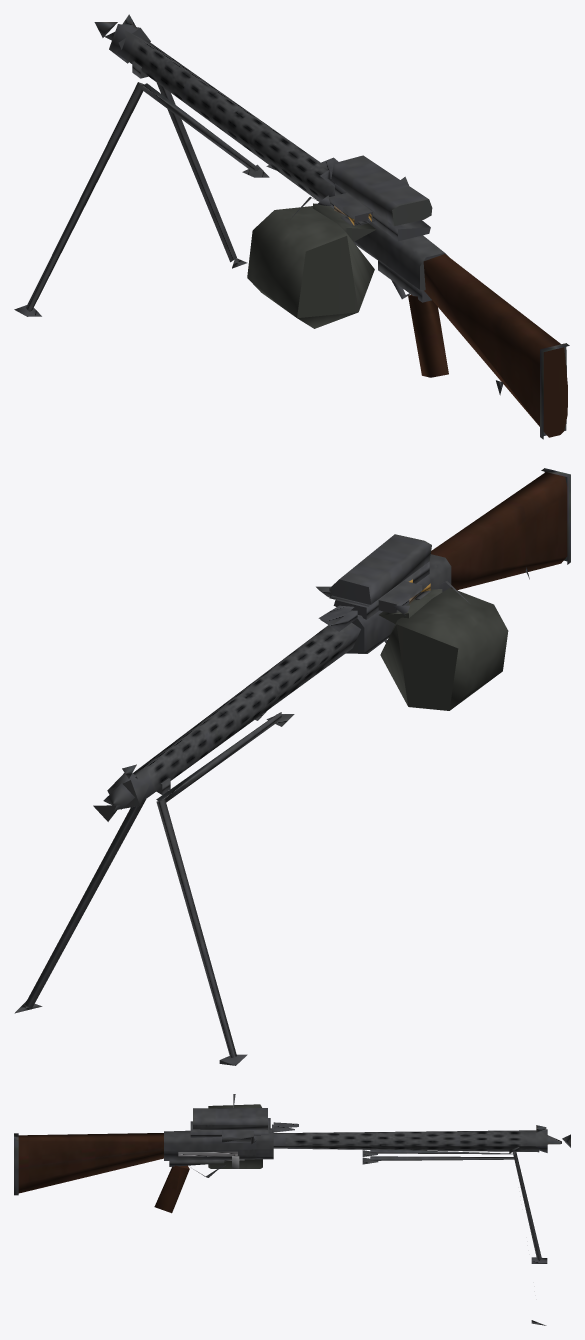
3 views of the same model, one above another, from view 1: azimuth 30°, elevation 25°; view 2: azimuth 150°, elevation 25°; view 3: azimuth 270°, elevation 25° (orthographic). The views are drawn at different scales.
Parts seen in each view (by area): view 1: mg34_body, mg34_drum, mg34_bipod_open, mg34_feed_cover, mg34_bipod_folded; view 2: mg34_body, mg34_drum, mg34_bipod_open, mg34_feed_cover, mg34_bipod_folded; view 3: mg34_body, mg34_feed_cover, mg34_bipod_folded, mg34_bipod_open, mg34_drum.
Part boxes in pixels (bbox=[...]): mg34_body: bbox=[94, 14, 569, 439]; mg34_drum: bbox=[247, 197, 376, 328]; mg34_bipod_open: bbox=[14, 82, 247, 316]; mg34_feed_cover: bbox=[330, 155, 432, 225]; mg34_bipod_folded: bbox=[140, 83, 275, 177]; mg34_body: bbox=[93, 468, 570, 821]; mg34_drum: bbox=[379, 581, 508, 710]; mg34_bipod_open: bbox=[14, 799, 247, 1065]; mg34_feed_cover: bbox=[330, 534, 431, 606]; mg34_bipod_folded: bbox=[156, 710, 294, 802]; mg34_body: bbox=[14, 1121, 570, 1213]; mg34_feed_cover: bbox=[193, 1108, 270, 1129]; mg34_bipod_folded: bbox=[362, 1150, 514, 1164]; mg34_bipod_open: bbox=[512, 1152, 547, 1325]; mg34_drum: bbox=[208, 1094, 262, 1168].
Bounding box in the file's own units: 0.3451 × 0.4347 × 1.22.
1 material, 1 textured.
